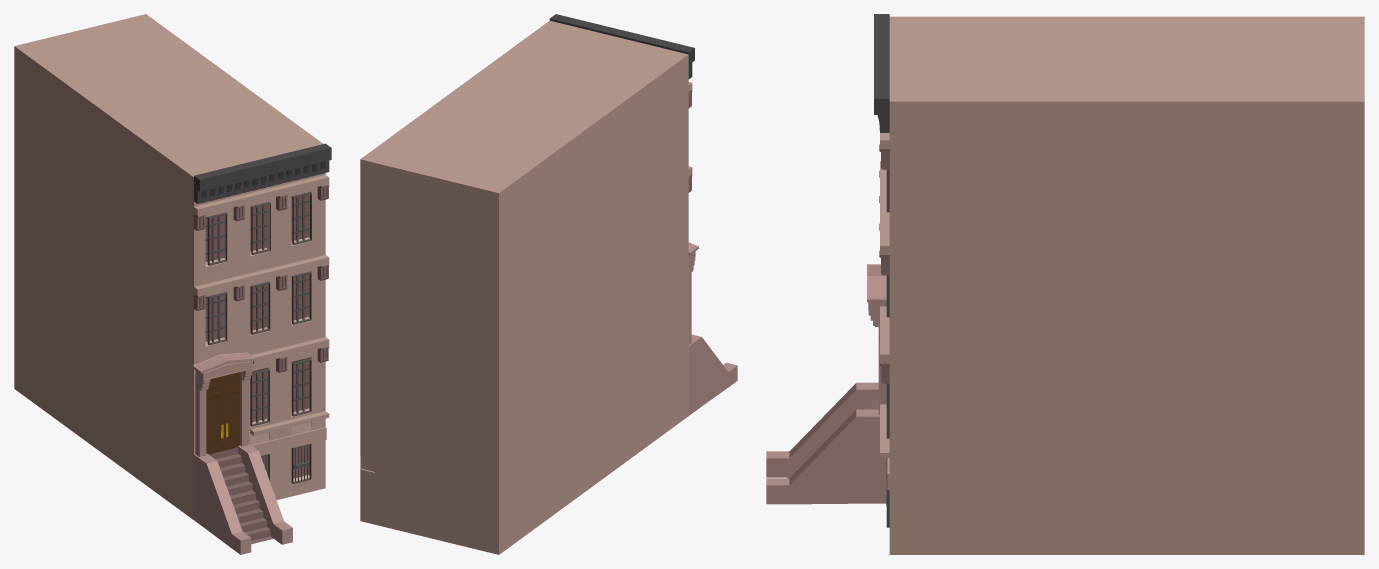
The model's file is brownstone1.fbx.
The picture shows the model from 3 angles, left to right: view 1: azimuth 30°, elevation 25°; view 2: azimuth 150°, elevation 25°; view 3: azimuth 270°, elevation 25°; orthographic projection. The views are drawn at different scales.
Visible parts, largest first — view 1: building, crownMolding, Cube.017, Cube.020, Cube.018, Cube.019, Cube.014, Cube.012, Cube.025, Cube.024, Cube.013; view 2: building, Cube.017, crownMolding; view 3: building, Cube.019, Cube.017, crownMolding, Cube.012.
Boxes of the visible parts, bbox=[...] form: building: bbox=[14, 14, 329, 519]; crownMolding: bbox=[194, 143, 331, 203]; Cube.017: bbox=[194, 453, 251, 554]; Cube.020: bbox=[206, 372, 240, 454]; Cube.018: bbox=[209, 447, 273, 544]; Cube.019: bbox=[238, 444, 292, 544]; Cube.014: bbox=[195, 369, 252, 456]; Cube.012: bbox=[192, 352, 255, 380]; Cube.025: bbox=[205, 216, 225, 262]; Cube.024: bbox=[205, 296, 225, 342]; Cube.013: bbox=[291, 360, 309, 413]; building: bbox=[360, 20, 692, 554]; Cube.017: bbox=[688, 334, 737, 415]; crownMolding: bbox=[549, 14, 694, 79]; building: bbox=[880, 16, 1364, 554]; Cube.019: bbox=[766, 409, 886, 504]; Cube.017: bbox=[766, 382, 878, 477]; crownMolding: bbox=[874, 14, 889, 132]; Cube.012: bbox=[867, 264, 886, 310].
Size of the model in its own units: 427 by 1060 by 1260.
